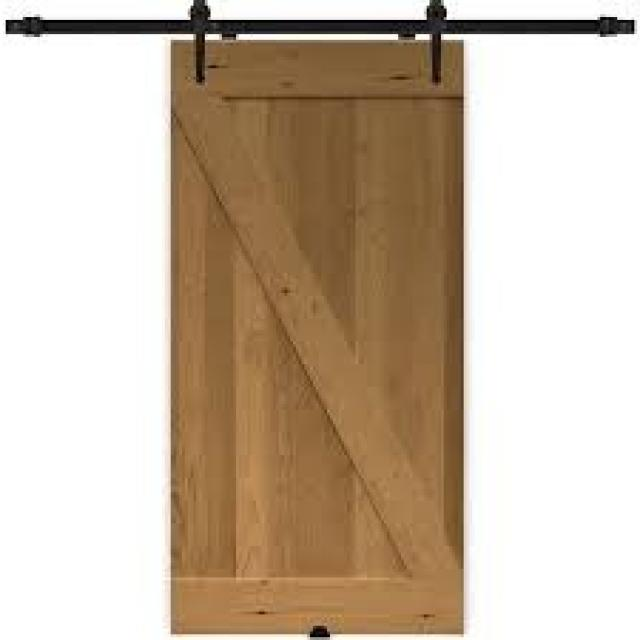door: (168, 38, 466, 636)
